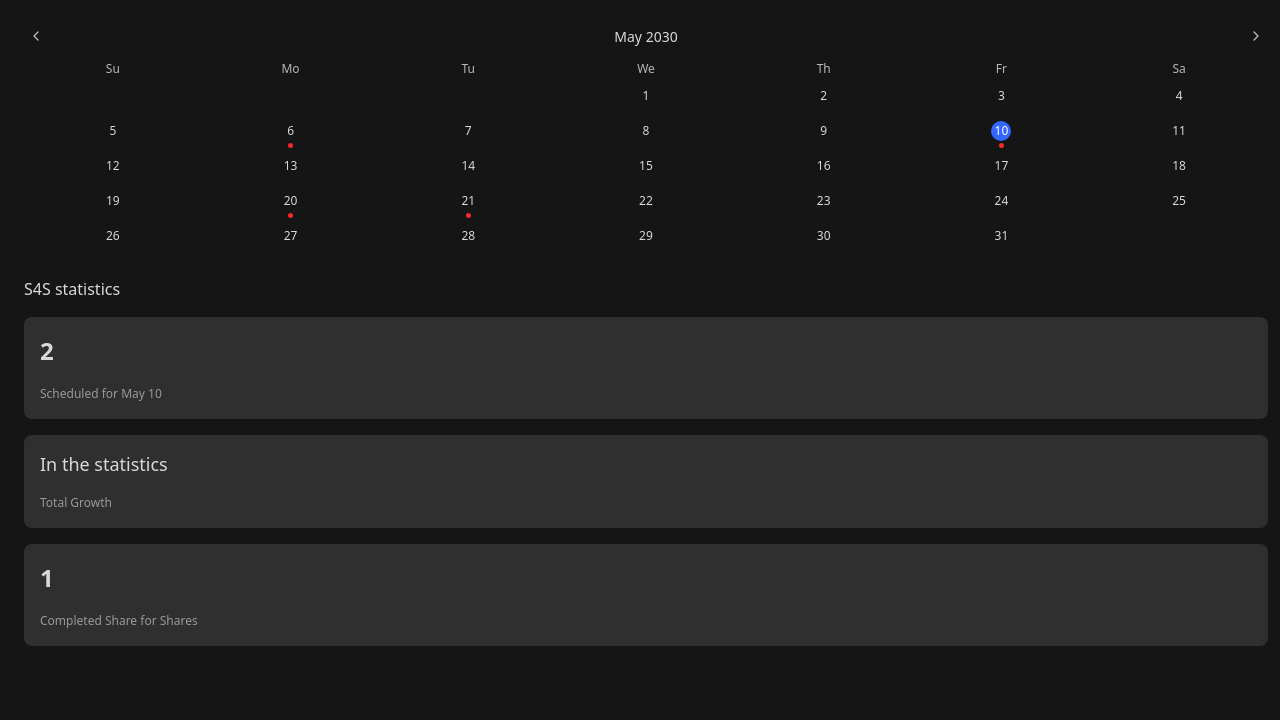
Test: S4SSchedule › shows the relay's refusal when the slot can no longer be cancelled
Click the button named "May 20, 2030": (291, 201) [281,191,301,211]
(page scrolled)
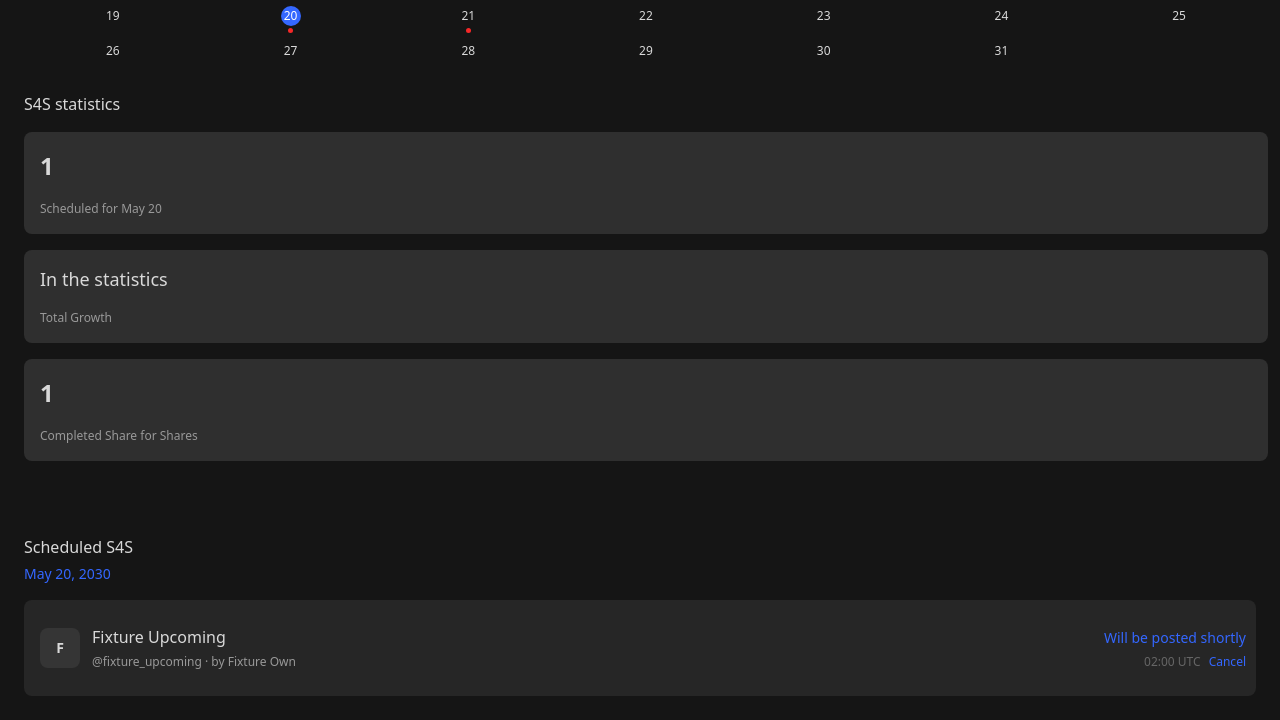
Click the button "Cancel": (1227, 662) [1209,653,1246,671]
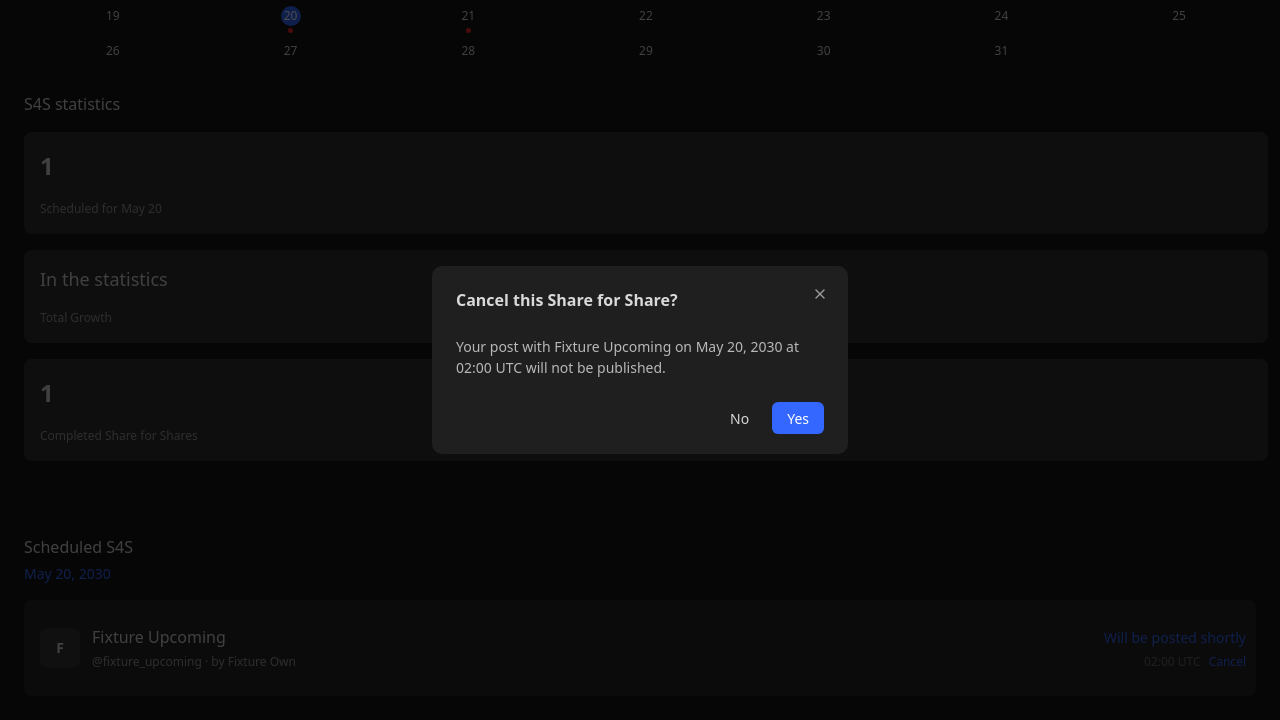
Click the button "Yes": (798, 418) [772,402,824,434]
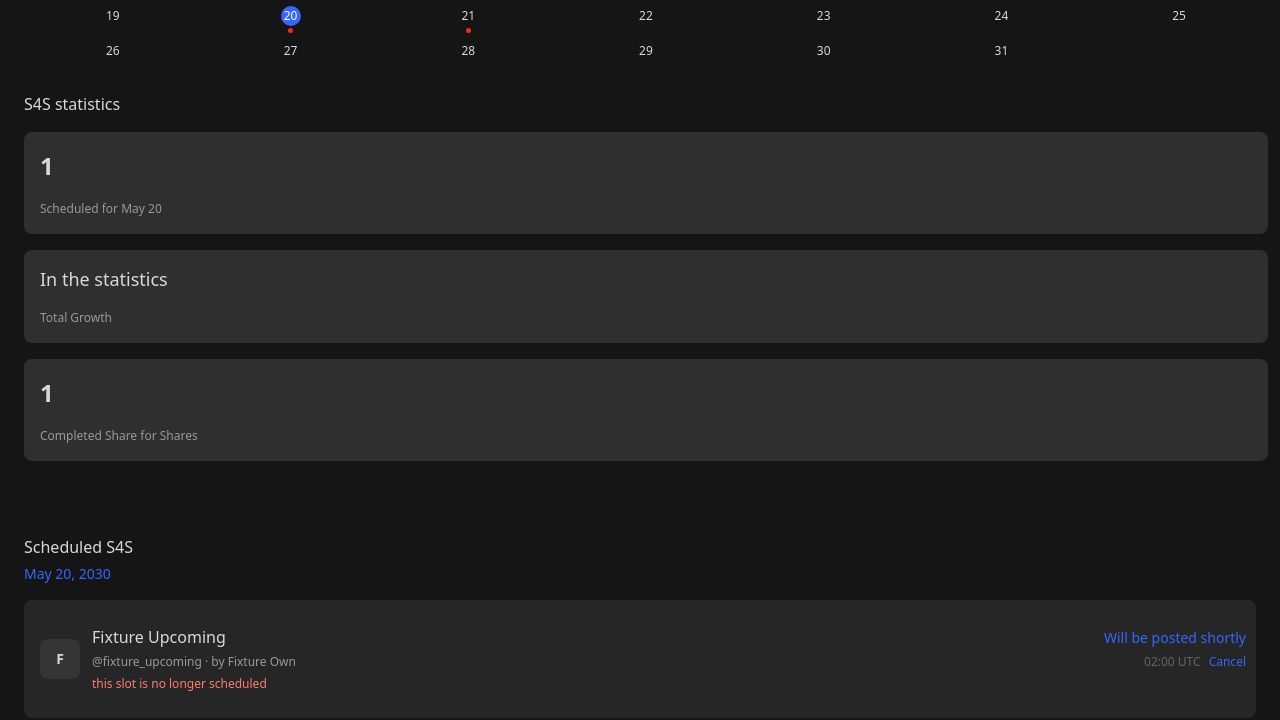
Expected: the message reads "this slot is no longer scheduled", [92,675,267,692]
